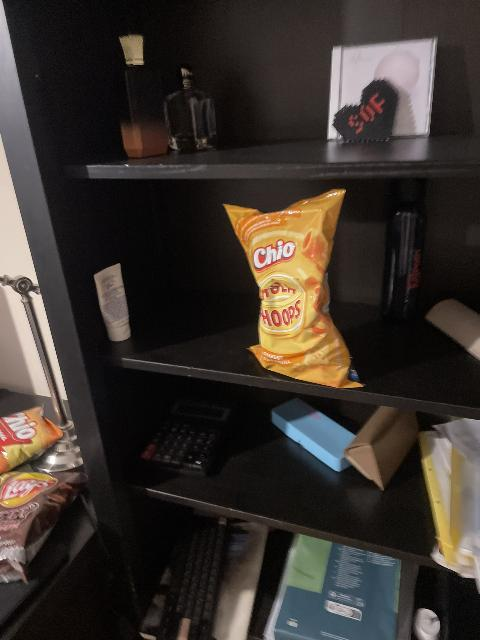Chio Cascaval 125g: (0, 406, 63, 479)
Chio Hula Hoops Cheese 70g: (230, 190, 363, 385)
Lays Beef Grilled Ribs 125g: (1, 468, 90, 588)
